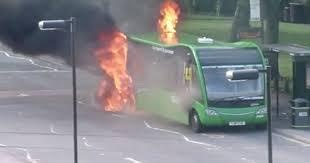fire: (93, 28, 136, 111), (156, 1, 180, 41)
